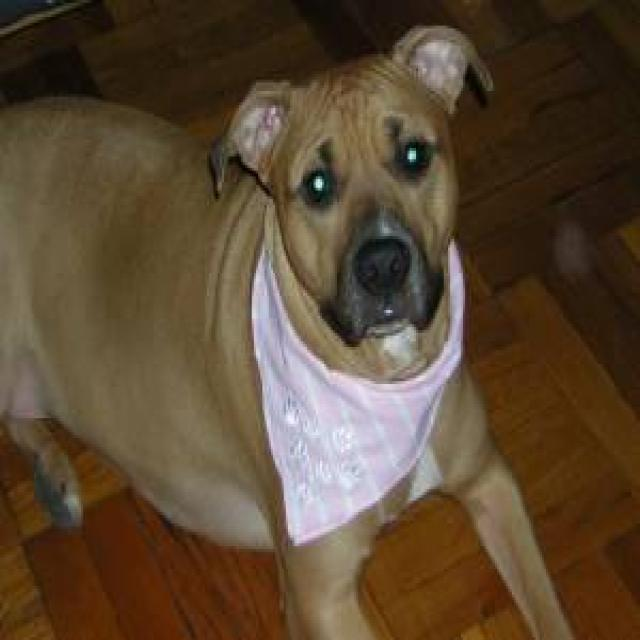dog-american_pit_bull_terrier: (2, 17, 582, 634)
